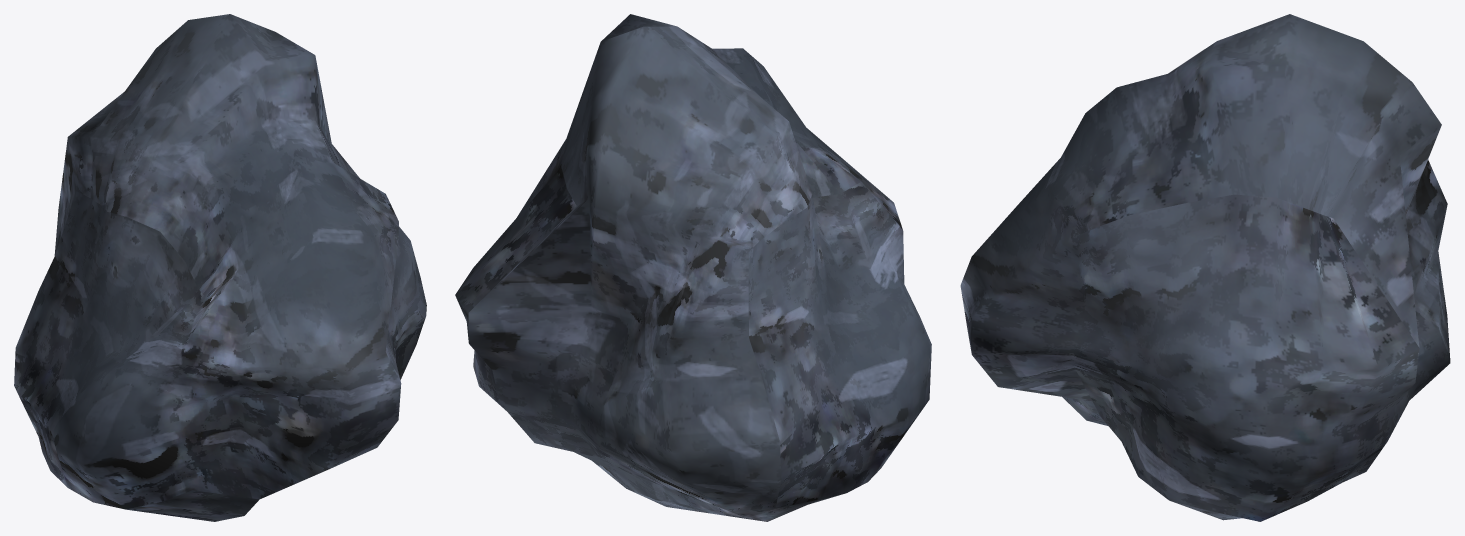
File: rock8.fbx
3 renders of one model, left to right at view 1: azimuth 30°, elevation 25°; view 2: azimuth 150°, elevation 25°; view 3: azimuth 270°, elevation 25°, orthographic. The views are drawn at different scales.
Visible parts, largest first — view 1: pCube14; view 2: pCube14; view 3: pCube14.
Part boxes in pixels (x1=…): pCube14: x1=14, y1=14, x2=426, y2=521; pCube14: x1=455, y1=14, x2=931, y2=521; pCube14: x1=960, y1=14, x2=1450, y2=521.
Size of the model in its own units: 6.64 by 7.67 by 6.87.
